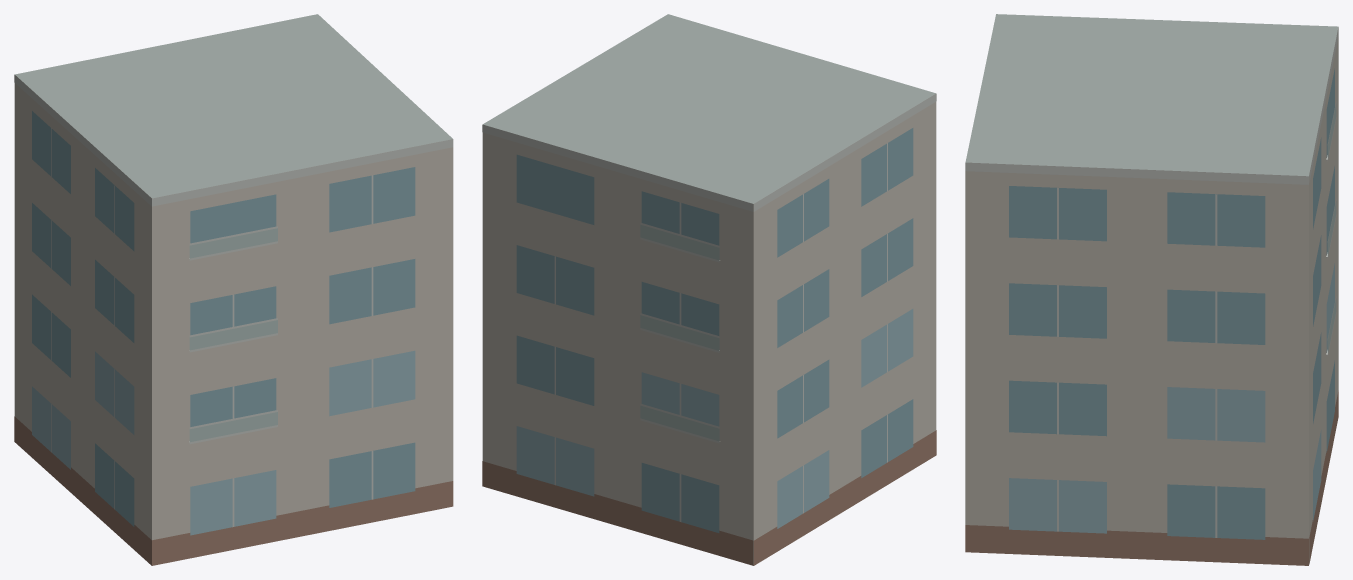
File: survey-upis-32606165.glb
3 views of the same model, side by side, from view 1: azimuth 30°, elevation 25°; view 2: azimuth 150°, elevation 25°; view 3: azimuth 270°, elevation 25° (orthographic). The views are drawn at different scales.
Visible parts, largest first — view 1: survey-upis-32606165.tmp; view 2: survey-upis-32606165.tmp; view 3: survey-upis-32606165.tmp.
Part boxes in pixels (bbox=[...]): survey-upis-32606165.tmp: bbox=[14, 14, 453, 565]; survey-upis-32606165.tmp: bbox=[482, 14, 936, 565]; survey-upis-32606165.tmp: bbox=[965, 14, 1338, 565].
Bounding box in the file's own units: 9.88 × 11.05 × 9.6.
